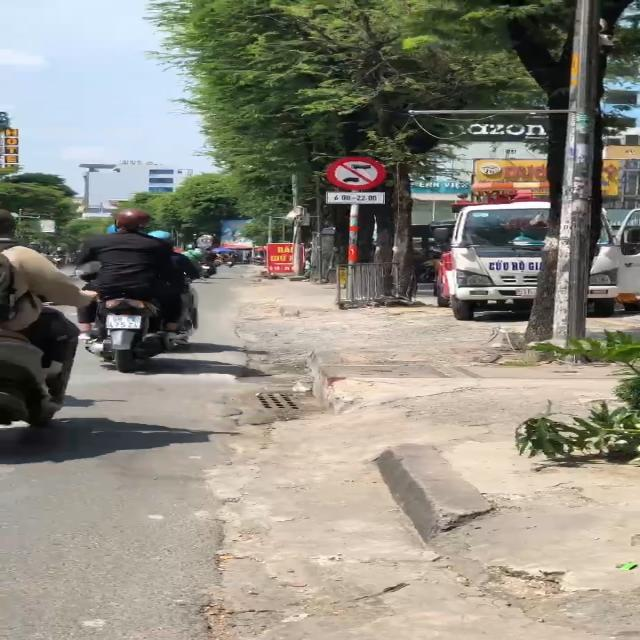Bien bao cam xe oto khach va xe oto tai: (324, 154, 388, 192)
